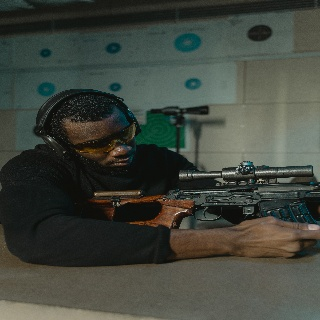rifle: (90, 159, 320, 245)
